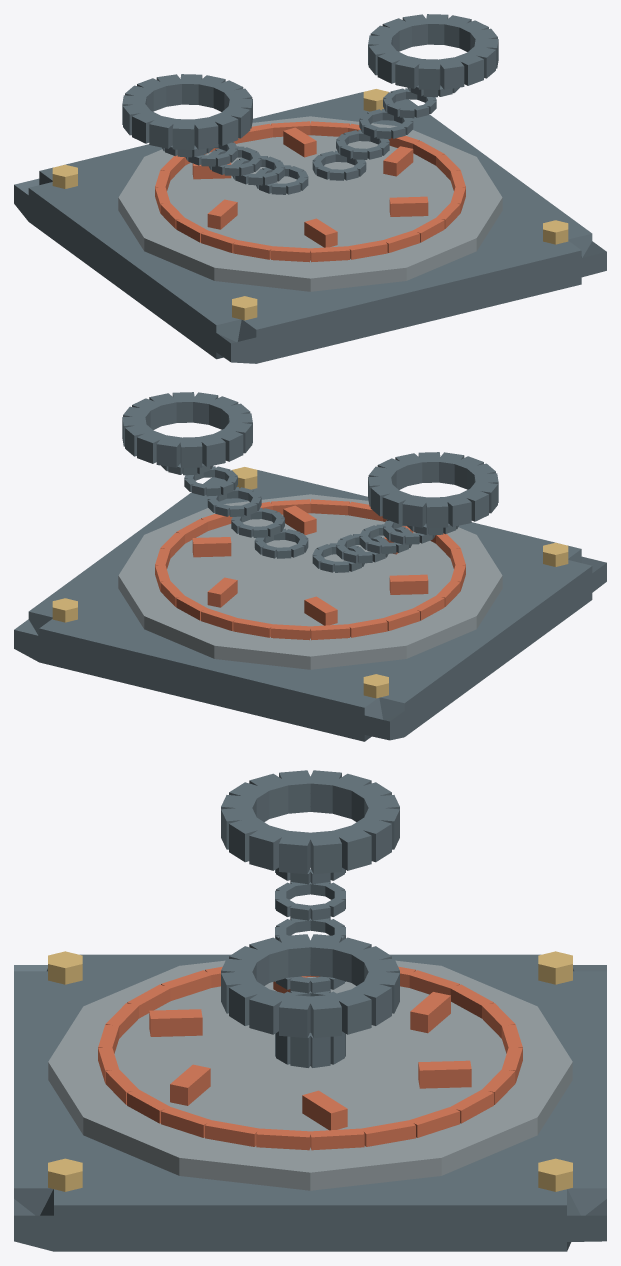
File: TrapShadowBind.fbx
3 views of the same model, one above another, from view 1: azimuth 30°, elevation 25°; view 2: azimuth 150°, elevation 25°; view 3: azimuth 270°, elevation 25° (orthographic). The views are drawn at different scales.
Visible parts, largest first — view 1: TrapShadowBind.002; view 2: TrapShadowBind.002; view 3: TrapShadowBind.002.
Boxes of the visible parts, bbox=[...] form: TrapShadowBind.002: bbox=[14, 14, 606, 363]; TrapShadowBind.002: bbox=[14, 392, 606, 741]; TrapShadowBind.002: bbox=[14, 770, 606, 1251].
Bounding box in the file's own units: 104 × 45.75 × 104.
